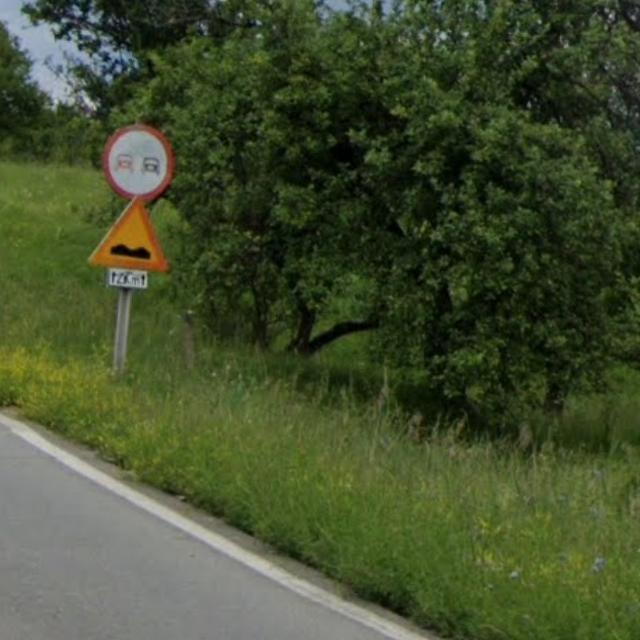forb_overtake: (103, 123, 174, 201)
